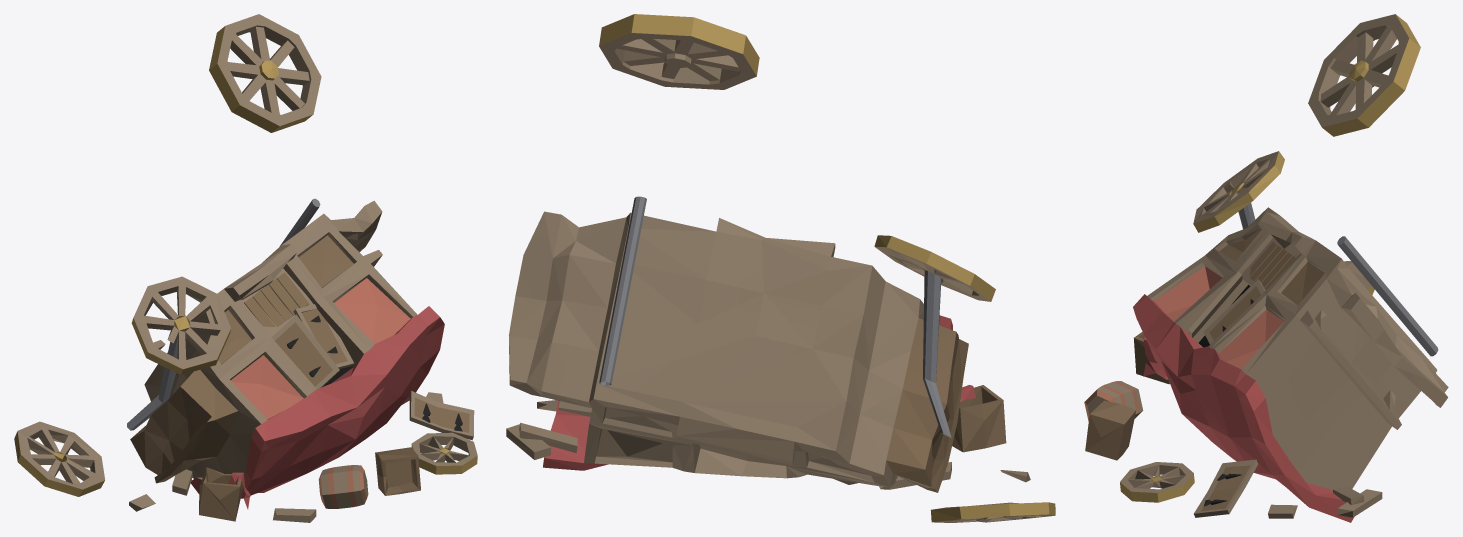
Rendered from encounterCarriage.fbx.
3 renders of one model, left to right at view 1: azimuth 30°, elevation 25°; view 2: azimuth 150°, elevation 25°; view 3: azimuth 270°, elevation 25°, orthographic. The views are drawn at different scales.
Visible parts, largest first — view 1: encounterCarriage, carriageWheel; view 2: encounterCarriage, carriageWheel; view 3: encounterCarriage, carriageWheel.
Part boxes in pixels (bbox=[...]): encounterCarriage: bbox=[14, 198, 477, 522]; carriageWheel: bbox=[209, 14, 321, 132]; encounterCarriage: bbox=[506, 196, 1055, 522]; carriageWheel: bbox=[599, 14, 759, 89]; encounterCarriage: bbox=[1084, 151, 1448, 522]; carriageWheel: bbox=[1308, 14, 1420, 136].
Bounding box in the file's own units: 3.62 × 3.33 × 2.52.
1 material, 1 textured.
